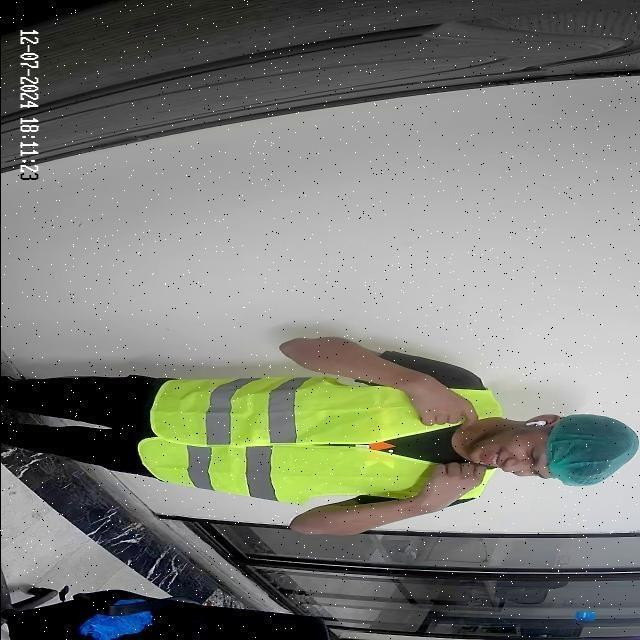gloves: (547, 414, 640, 484)
no_apron: (407, 368, 482, 444), (427, 452, 474, 524)
no_hairnet: (486, 430, 554, 486)
